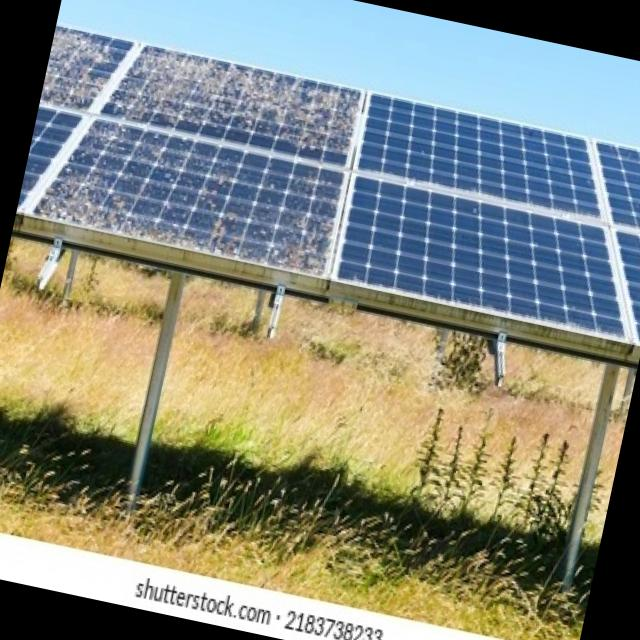faulty: (14, 24, 374, 286)
no faulty: (334, 93, 640, 350)
